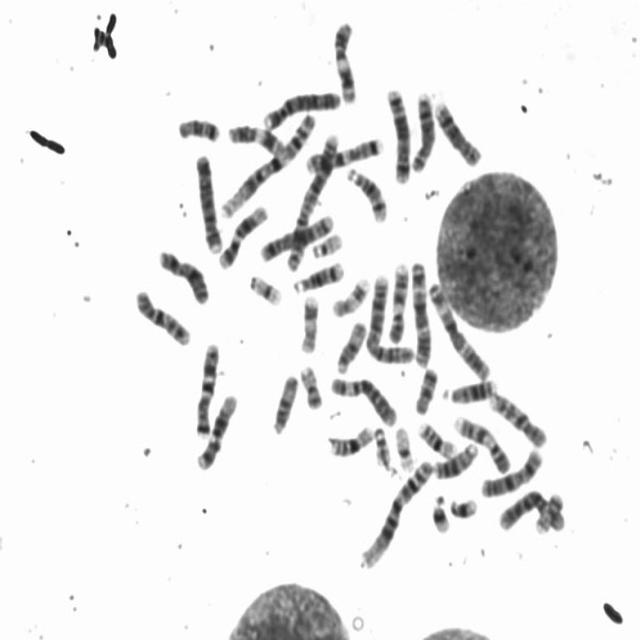A1: (217, 105, 318, 219), (354, 452, 436, 571)
A2: (281, 123, 343, 274), (361, 266, 418, 364)
A3: (423, 274, 493, 381), (407, 255, 434, 367)
B4: (258, 84, 342, 131), (190, 147, 224, 255)
B5: (255, 208, 337, 263), (381, 80, 413, 185)
C10: (130, 282, 194, 348), (485, 385, 549, 449)
C11: (328, 14, 361, 106), (224, 117, 287, 157)
C12: (213, 197, 270, 270), (192, 386, 240, 472)
C6: (325, 368, 400, 428), (495, 482, 568, 534)
C7: (301, 130, 385, 175), (190, 336, 222, 438)
C8: (430, 94, 485, 167), (407, 84, 437, 174)
C9: (449, 409, 514, 475), (384, 255, 411, 345)
D13: (430, 436, 480, 480), (438, 372, 500, 404)
D14: (342, 160, 390, 224), (288, 254, 346, 294)
D15: (331, 314, 369, 376), (267, 368, 300, 437)
E16: (324, 418, 376, 458), (413, 415, 458, 458)
E17: (328, 269, 372, 319), (295, 289, 321, 355)
E18: (172, 110, 222, 144), (410, 361, 440, 416)
F19: (244, 268, 284, 306), (391, 420, 416, 472)
F20: (532, 486, 568, 535), (295, 358, 325, 411)
G21: (428, 489, 453, 535), (445, 490, 480, 520)
G22: (307, 226, 345, 259), (369, 420, 394, 470)
X: (478, 442, 546, 498), (154, 242, 212, 306)
